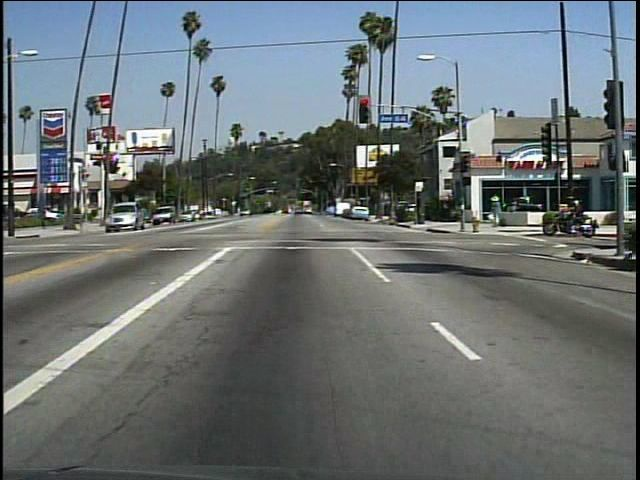person: (561, 194, 586, 237), (489, 191, 506, 228)
